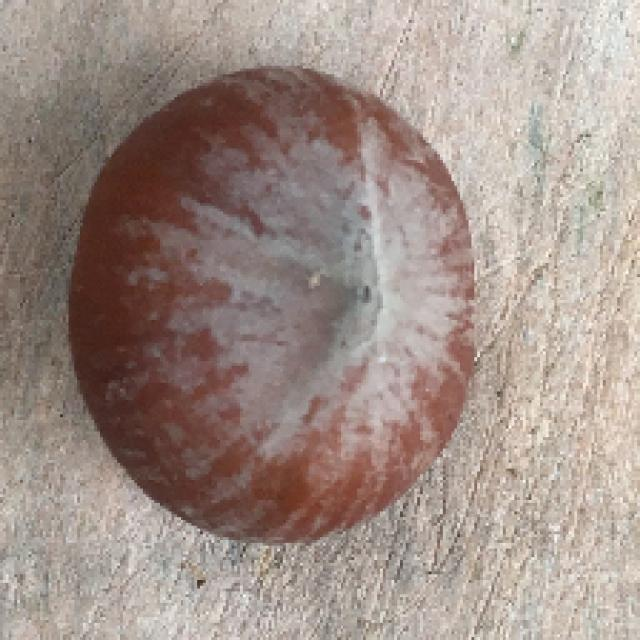qualityHazelnut: (65, 60, 477, 552)
